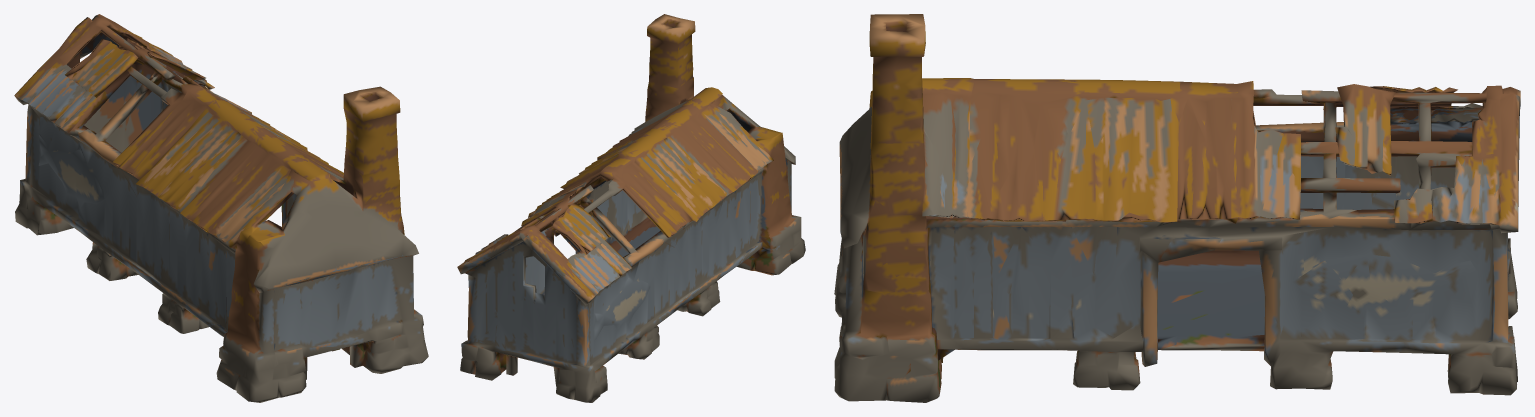
Rendered from cannery.glb.
The picture shows the model from 3 angles, left to right: view 1: azimuth 30°, elevation 25°; view 2: azimuth 150°, elevation 25°; view 3: azimuth 270°, elevation 25°; orthographic projection. The views are drawn at different scales.
Parts seen in each view (by area): view 1: tripo_node_954e515b-b6e0-419d-96d9-7acce9661433; view 2: tripo_node_954e515b-b6e0-419d-96d9-7acce9661433; view 3: tripo_node_954e515b-b6e0-419d-96d9-7acce9661433.
Part boxes in pixels (bbox=[...]): tripo_node_954e515b-b6e0-419d-96d9-7acce9661433: bbox=[14, 14, 428, 402]; tripo_node_954e515b-b6e0-419d-96d9-7acce9661433: bbox=[457, 14, 805, 402]; tripo_node_954e515b-b6e0-419d-96d9-7acce9661433: bbox=[834, 14, 1520, 402].
Bounding box in the file's own units: 0.4134 × 0.566 × 1.
1 material, 1 textured.
